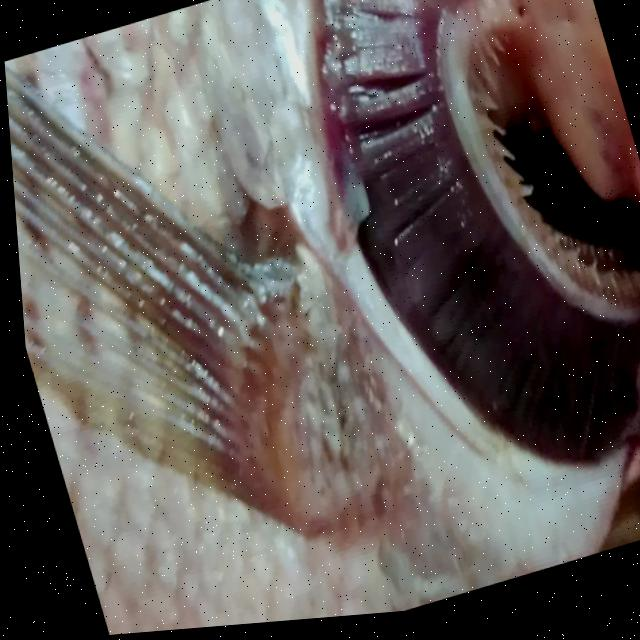Non-Fresh: (273, 0, 640, 559)
